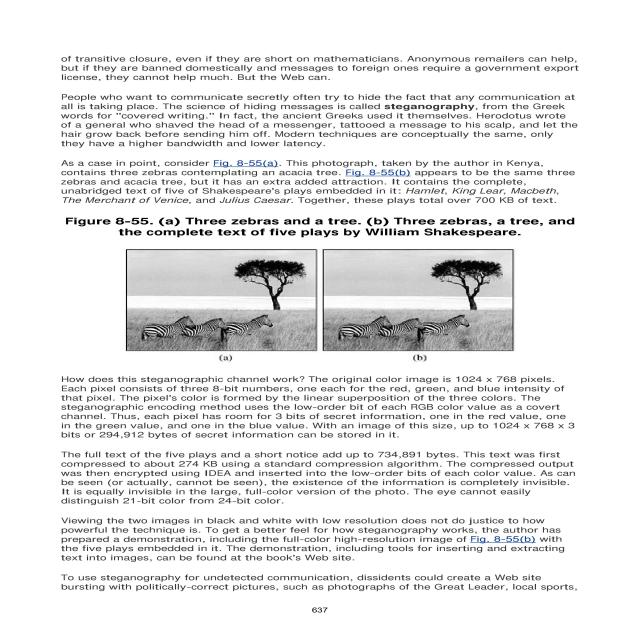diagram: (45, 210, 585, 440)
